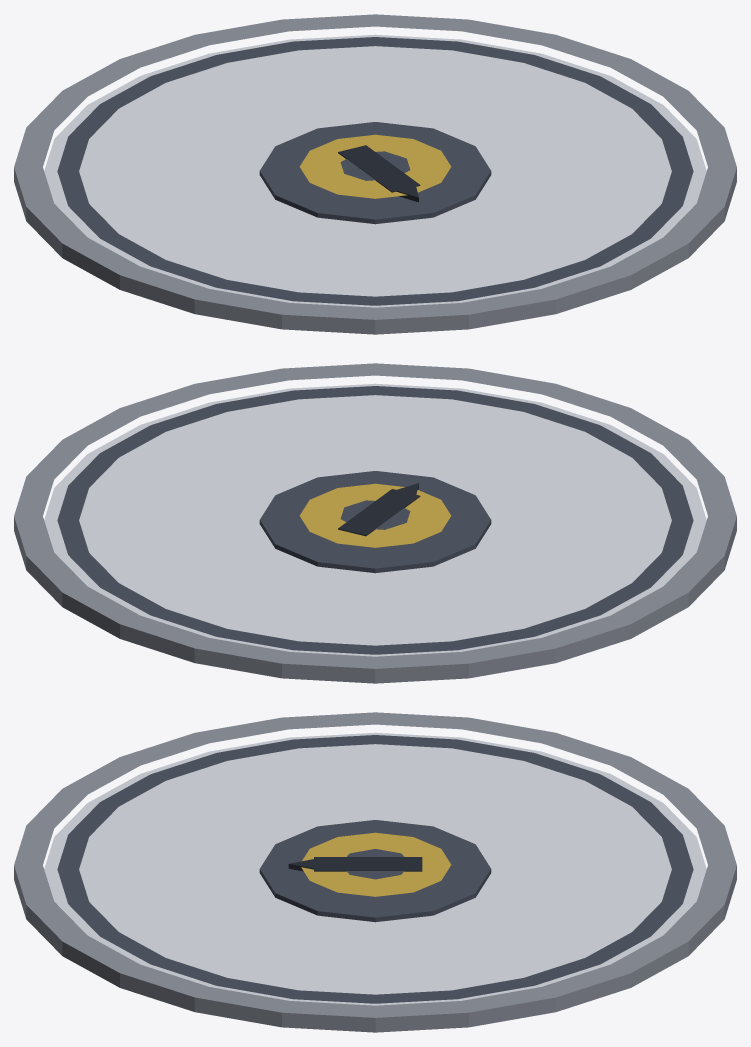
Rendered from mortar_common_area.glb.
3 views of the same model, one above another, from view 1: azimuth 30°, elevation 25°; view 2: azimuth 150°, elevation 25°; view 3: azimuth 270°, elevation 25° (orthographic).
Parts seen in each view (by area): view 1: mortar_common_area; view 2: mortar_common_area; view 3: mortar_common_area.
Boxes of the visible parts, x1,y1,x2,y2 form: mortar_common_area: [14, 14, 736, 334]; mortar_common_area: [14, 363, 736, 683]; mortar_common_area: [14, 712, 736, 1032].
Size of the model in its own units: 2 by 0.049 by 2.
1 material, 1 textured.
